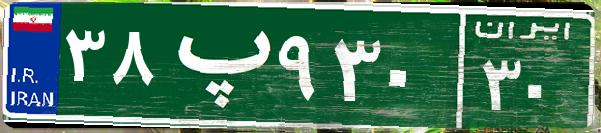0: (385, 28, 445, 110), (525, 38, 570, 115)
3: (330, 28, 385, 110), (57, 26, 110, 107), (475, 38, 525, 113)
8: (110, 28, 158, 105)
9: (273, 28, 330, 110)
پ: (158, 15, 273, 115)
